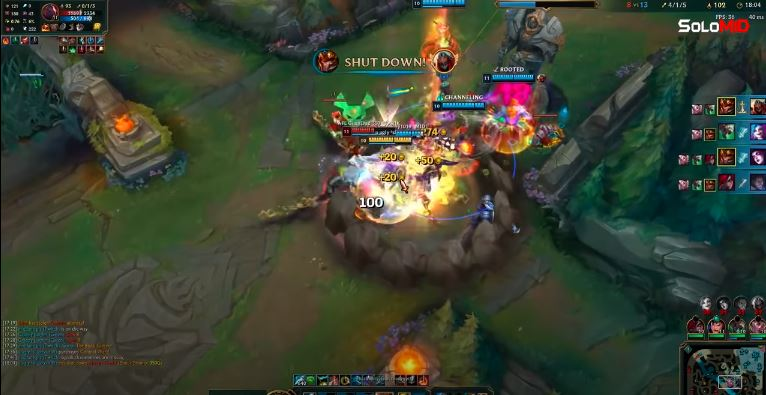bar: (480, 71, 538, 84), (340, 123, 396, 135), (430, 99, 487, 110), (375, 129, 425, 139), (358, 135, 413, 144), (413, 1, 465, 8)
